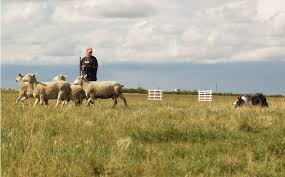sheep: (21, 71, 70, 106), (73, 74, 125, 106), (11, 74, 31, 100)
